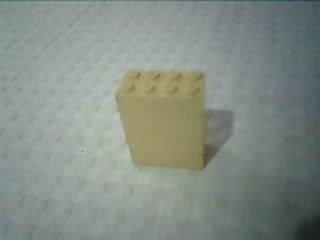lego: (112, 67, 210, 171)
